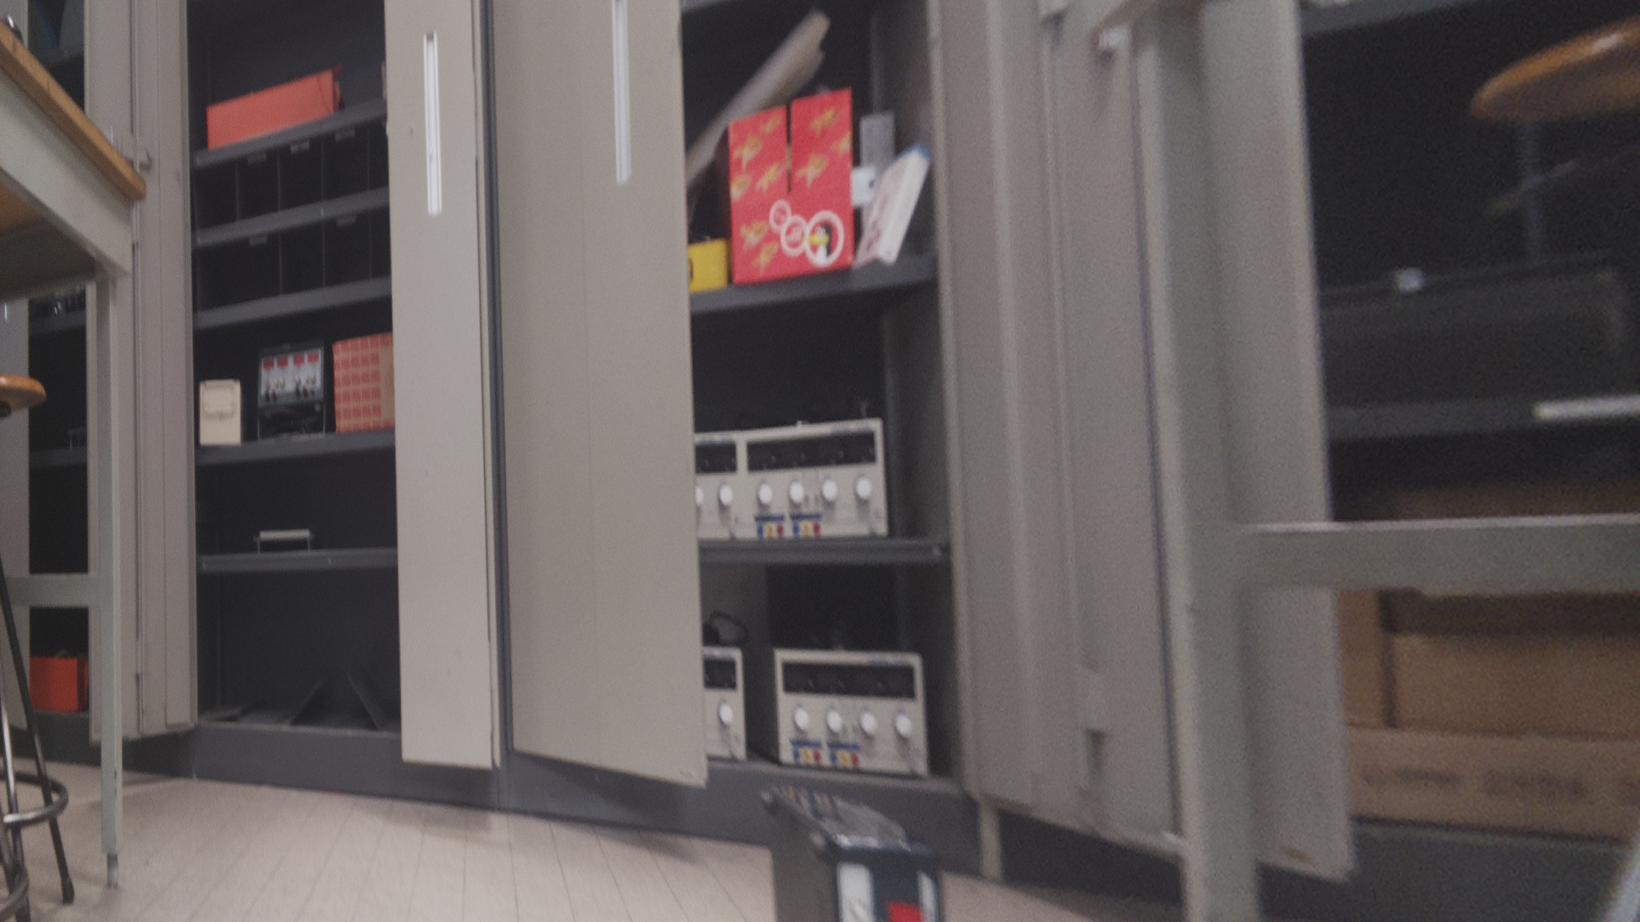medium: (763, 786, 941, 922)
